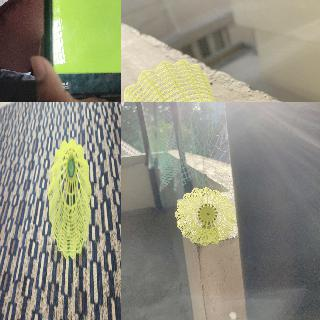shuttlecock: (121, 58, 258, 101), (47, 138, 91, 258), (175, 187, 235, 245)
